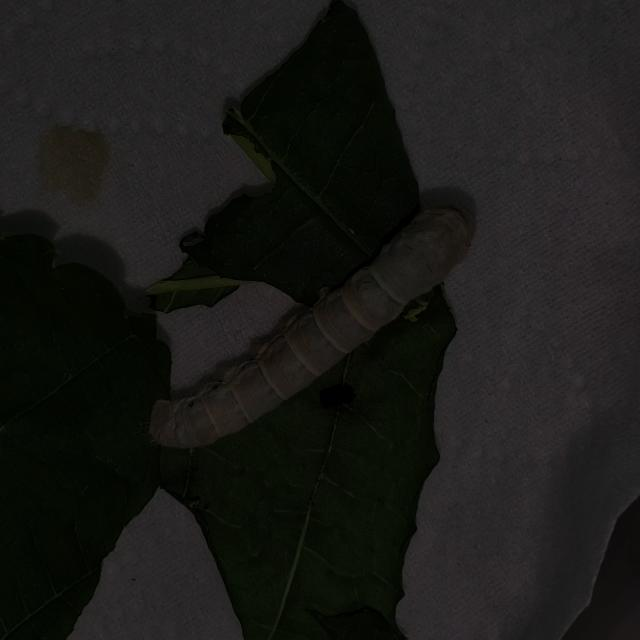Healthy: (124, 166, 493, 470)
